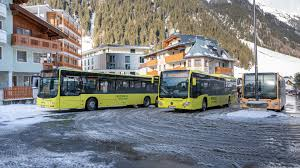bus: (31, 68, 160, 112), (157, 68, 238, 112), (237, 72, 288, 112)
